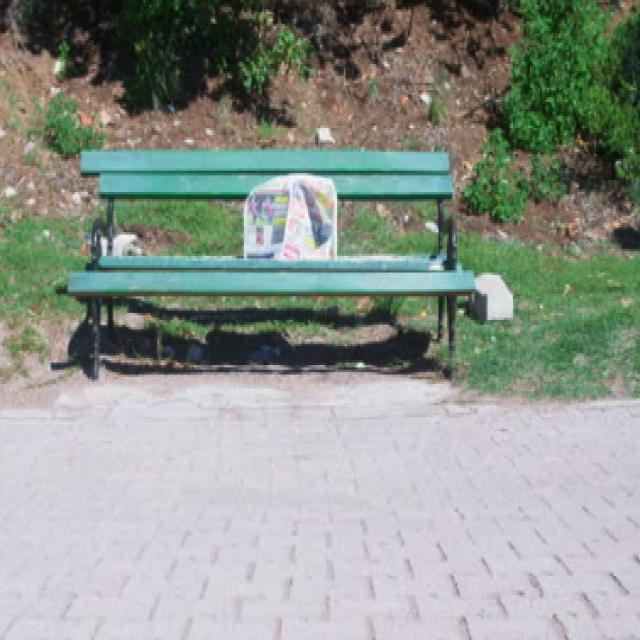Koran: (244, 177, 338, 264)
